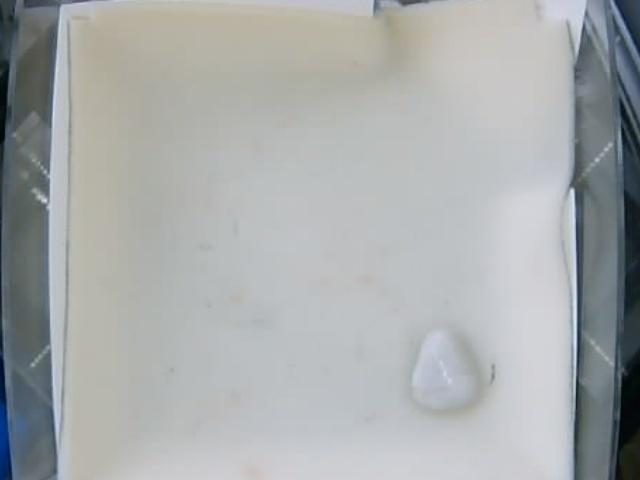Pebble: (411, 328, 480, 410)
